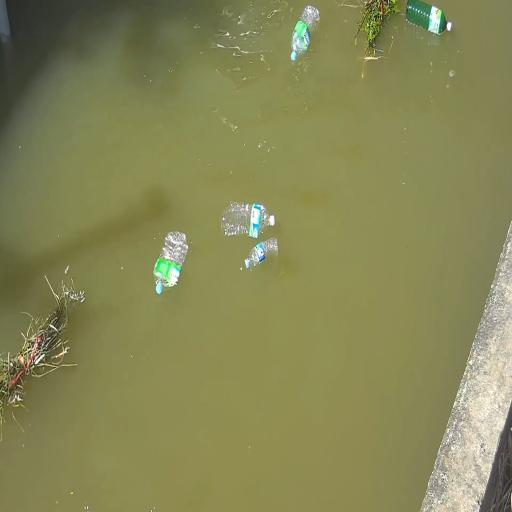plastic: (149, 228, 189, 300), (211, 198, 280, 238), (287, 3, 328, 68), (403, 0, 456, 41), (240, 238, 290, 277)
twig: (0, 263, 83, 417), (352, 0, 402, 64)
